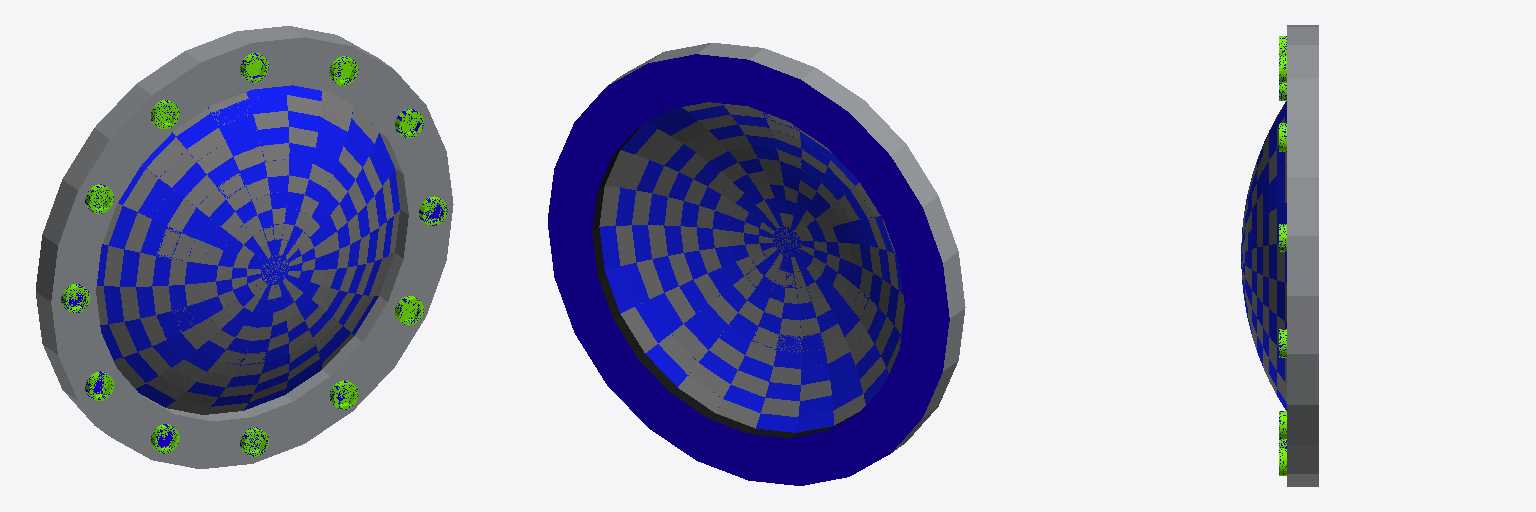
Rendered from portal_2_center.obj.
The picture shows the model from 3 angles: view 1: azimuth 30°, elevation 25°; view 2: azimuth 150°, elevation 25°; view 3: azimuth 270°, elevation 25°; orthographic projection.
Visible parts, largest first — view 1: Mesh13 Component_3_1 Model, Mesh5 Component_2_5 Component_3_1 Model, Mesh8 Component_2_8 Component_3_1 Model, Mesh11 Component_2_11 Component_3_1 Model, Mesh4 Component_2_4 Component_3_1 Model, Mesh7 Component_2_7 Component_3_1 Model, Mesh3 Component_2_3 Component_3_1 Model, Mesh1 Component_2_1 Component_3_1 Model, Mesh12 Component_2_12 Component_3_1 Model, Mesh9 Component_2_9 Component_3_1 Model, Mesh10 Component_2_10 Component_3_1 Model, Mesh2 Component_2_2 Component_3_1 Model (+1 smaller); view 2: Mesh13 Component_3_1 Model; view 3: Mesh13 Component_3_1 Model.
Part boxes in pixels (x1,y1,x2,y2): Mesh13 Component_3_1 Model: (36, 26, 453, 468); Mesh5 Component_2_5 Component_3_1 Model: (240, 53, 268, 82); Mesh8 Component_2_8 Component_3_1 Model: (240, 427, 268, 456); Mesh11 Component_2_11 Component_3_1 Model: (395, 296, 423, 325); Mesh4 Component_2_4 Component_3_1 Model: (85, 184, 113, 213); Mesh7 Component_2_7 Component_3_1 Model: (151, 424, 179, 453); Mesh3 Component_2_3 Component_3_1 Model: (419, 196, 447, 225); Mesh1 Component_2_1 Component_3_1 Model: (395, 109, 423, 137); Mesh12 Component_2_12 Component_3_1 Model: (329, 56, 358, 85); Mesh9 Component_2_9 Component_3_1 Model: (85, 371, 113, 400); Mesh10 Component_2_10 Component_3_1 Model: (61, 284, 89, 312); Mesh2 Component_2_2 Component_3_1 Model: (151, 100, 179, 129); Mesh13 Component_3_1 Model: (548, 43, 965, 485); Mesh13 Component_3_1 Model: (1241, 25, 1318, 486).
Size of the model in its own units: 2 by 2 by 0.3333.